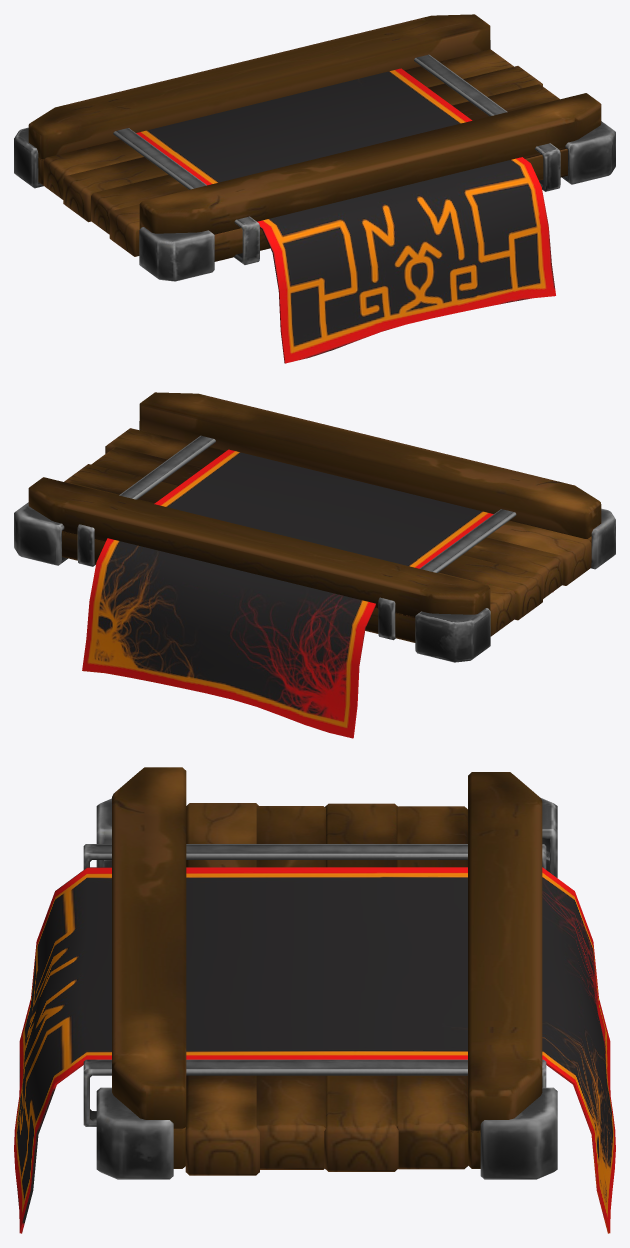
3 renders of one model, top to bottom at view 1: azimuth 30°, elevation 25°; view 2: azimuth 150°, elevation 25°; view 3: azimuth 270°, elevation 25°, orthographic. The views are drawn at different scales.
Visible parts, largest first — view 1: defaultMaterial.004; view 2: defaultMaterial.004; view 3: defaultMaterial.004.
Boxes of the visible parts, x1=… form: defaultMaterial.004: x1=14, y1=14, x2=615, y2=363; defaultMaterial.004: x1=14, y1=392, x2=615, y2=738; defaultMaterial.004: x1=14, y1=767, x2=615, y2=1233.
Bounding box in the file's own units: 4.15 × 1.23 × 3.17.
Materials: 1 (1 with a texture image).
